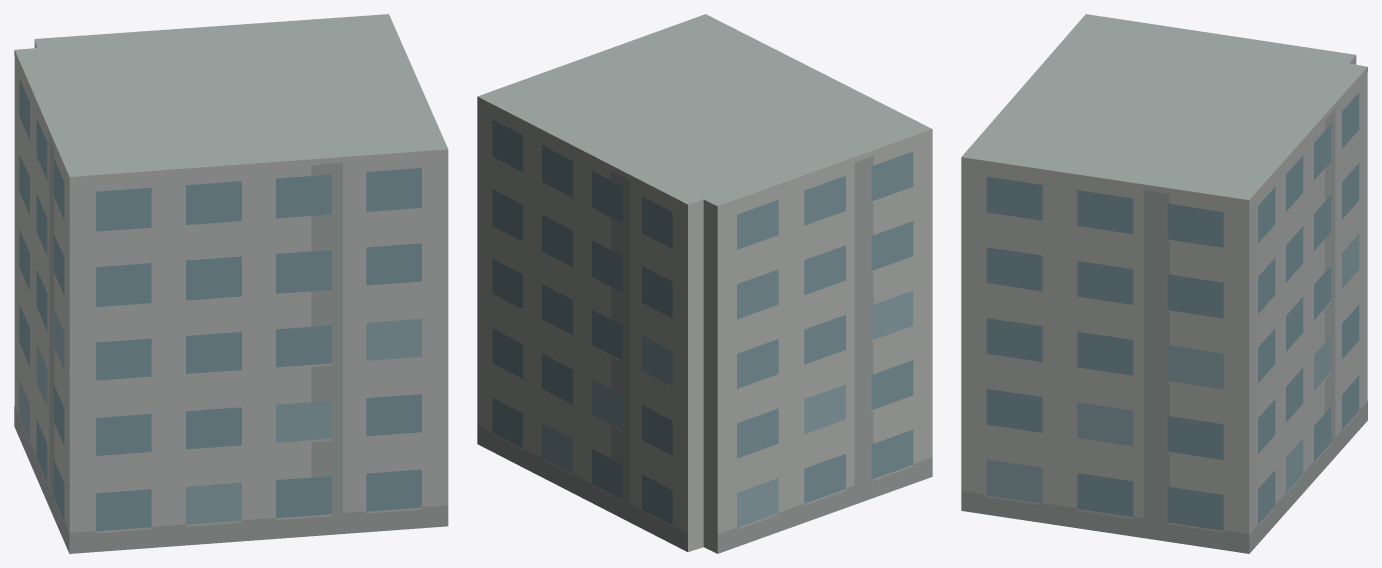
Rendered from survey-upis-32889825.glb.
The picture shows the model from 3 angles, left to right: view 1: azimuth 30°, elevation 25°; view 2: azimuth 150°, elevation 25°; view 3: azimuth 270°, elevation 25°; orthographic projection. The views are drawn at different scales.
Visible parts, largest first — view 1: survey-upis-32889825.tmp; view 2: survey-upis-32889825.tmp; view 3: survey-upis-32889825.tmp.
Boxes of the visible parts, x1,y1,x2,y2 form: survey-upis-32889825.tmp: (14,14,448,553); survey-upis-32889825.tmp: (477,14,932,553); survey-upis-32889825.tmp: (961,14,1367,553).
Size of the model in its own units: 17.56 by 15.55 by 16.21.
